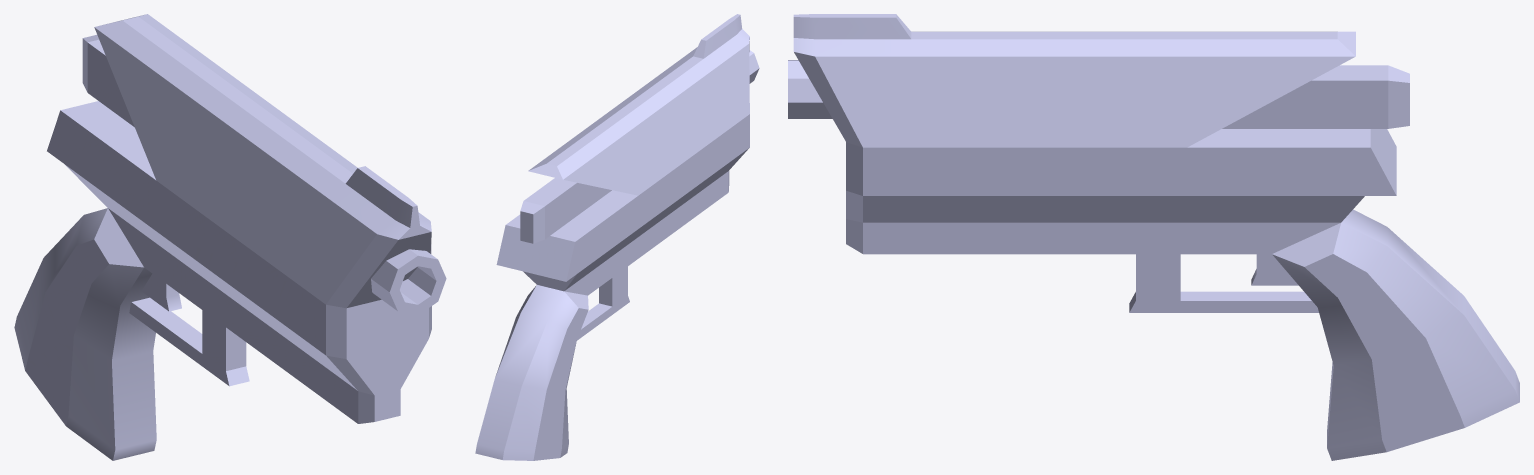
The model's file is Pistol.fbx.
3 views of the same model, side by side, from view 1: azimuth 30°, elevation 25°; view 2: azimuth 150°, elevation 25°; view 3: azimuth 270°, elevation 25° (orthographic). The views are drawn at different scales.
Visible parts, largest first — view 1: Pistol; view 2: Pistol; view 3: Pistol.
Boxes of the visible parts, left/top/right/bottom form: Pistol: left=14, top=14, right=446, bottom=460; Pistol: left=475, top=14, right=759, bottom=460; Pistol: left=788, top=14, right=1519, bottom=460.
Bounding box in the file's own units: 0.8195 × 3.37 × 5.14.
